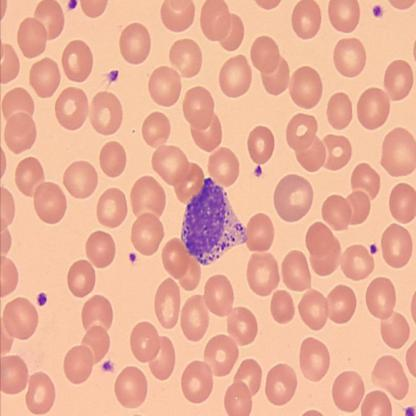Myelocyte: (181, 175, 250, 263)
